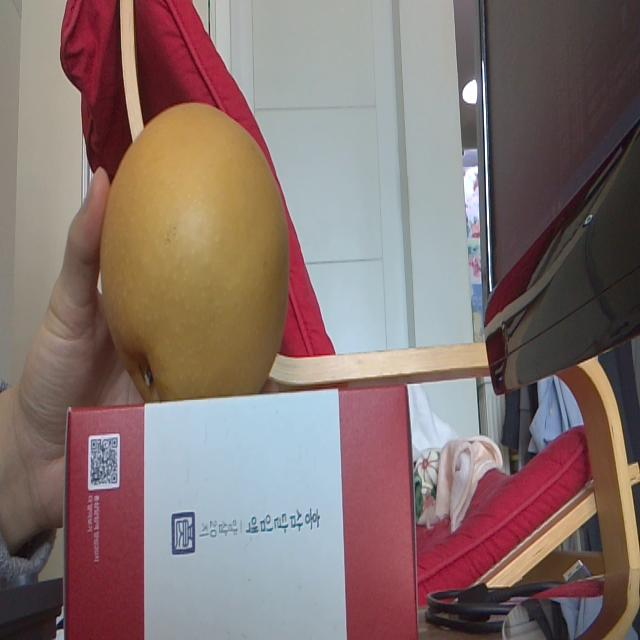pear: (99, 95, 292, 394)
